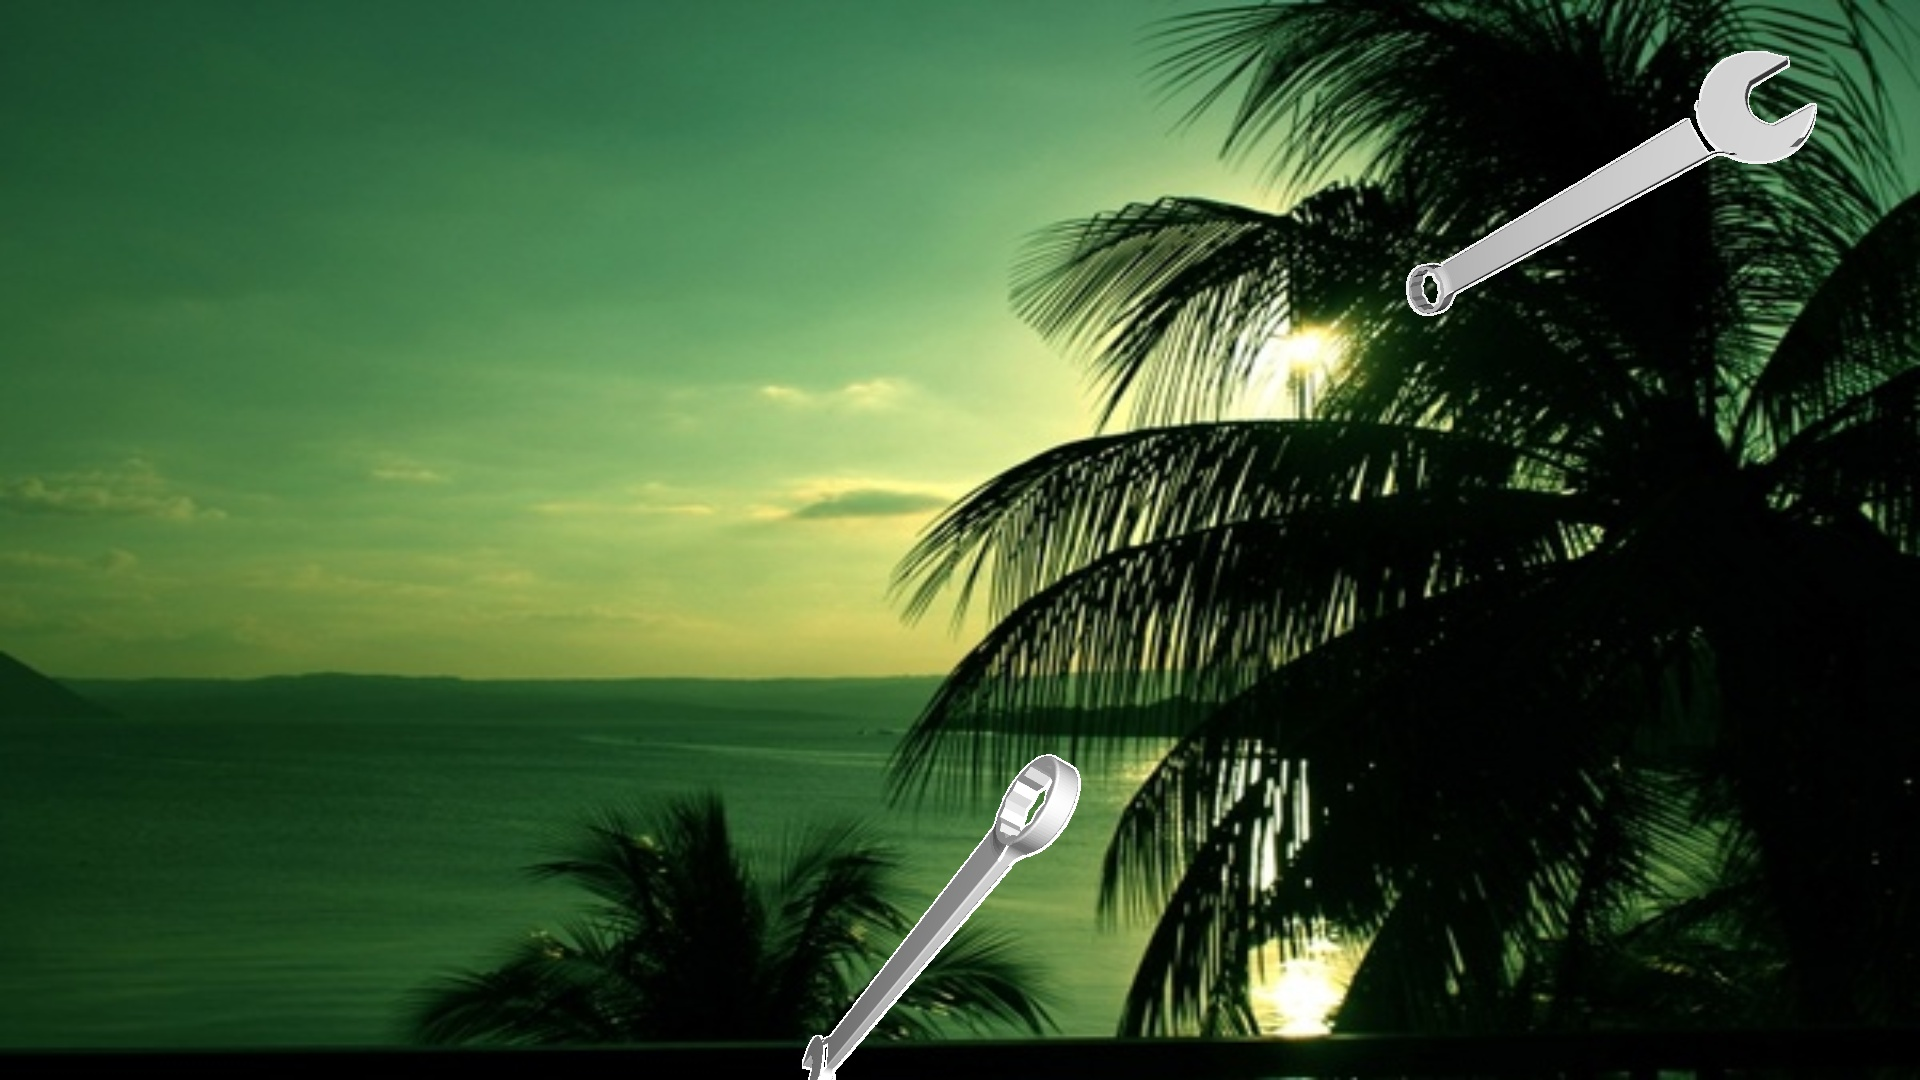Mixed Key: (1406, 51, 1816, 315), (802, 754, 1080, 1079)
